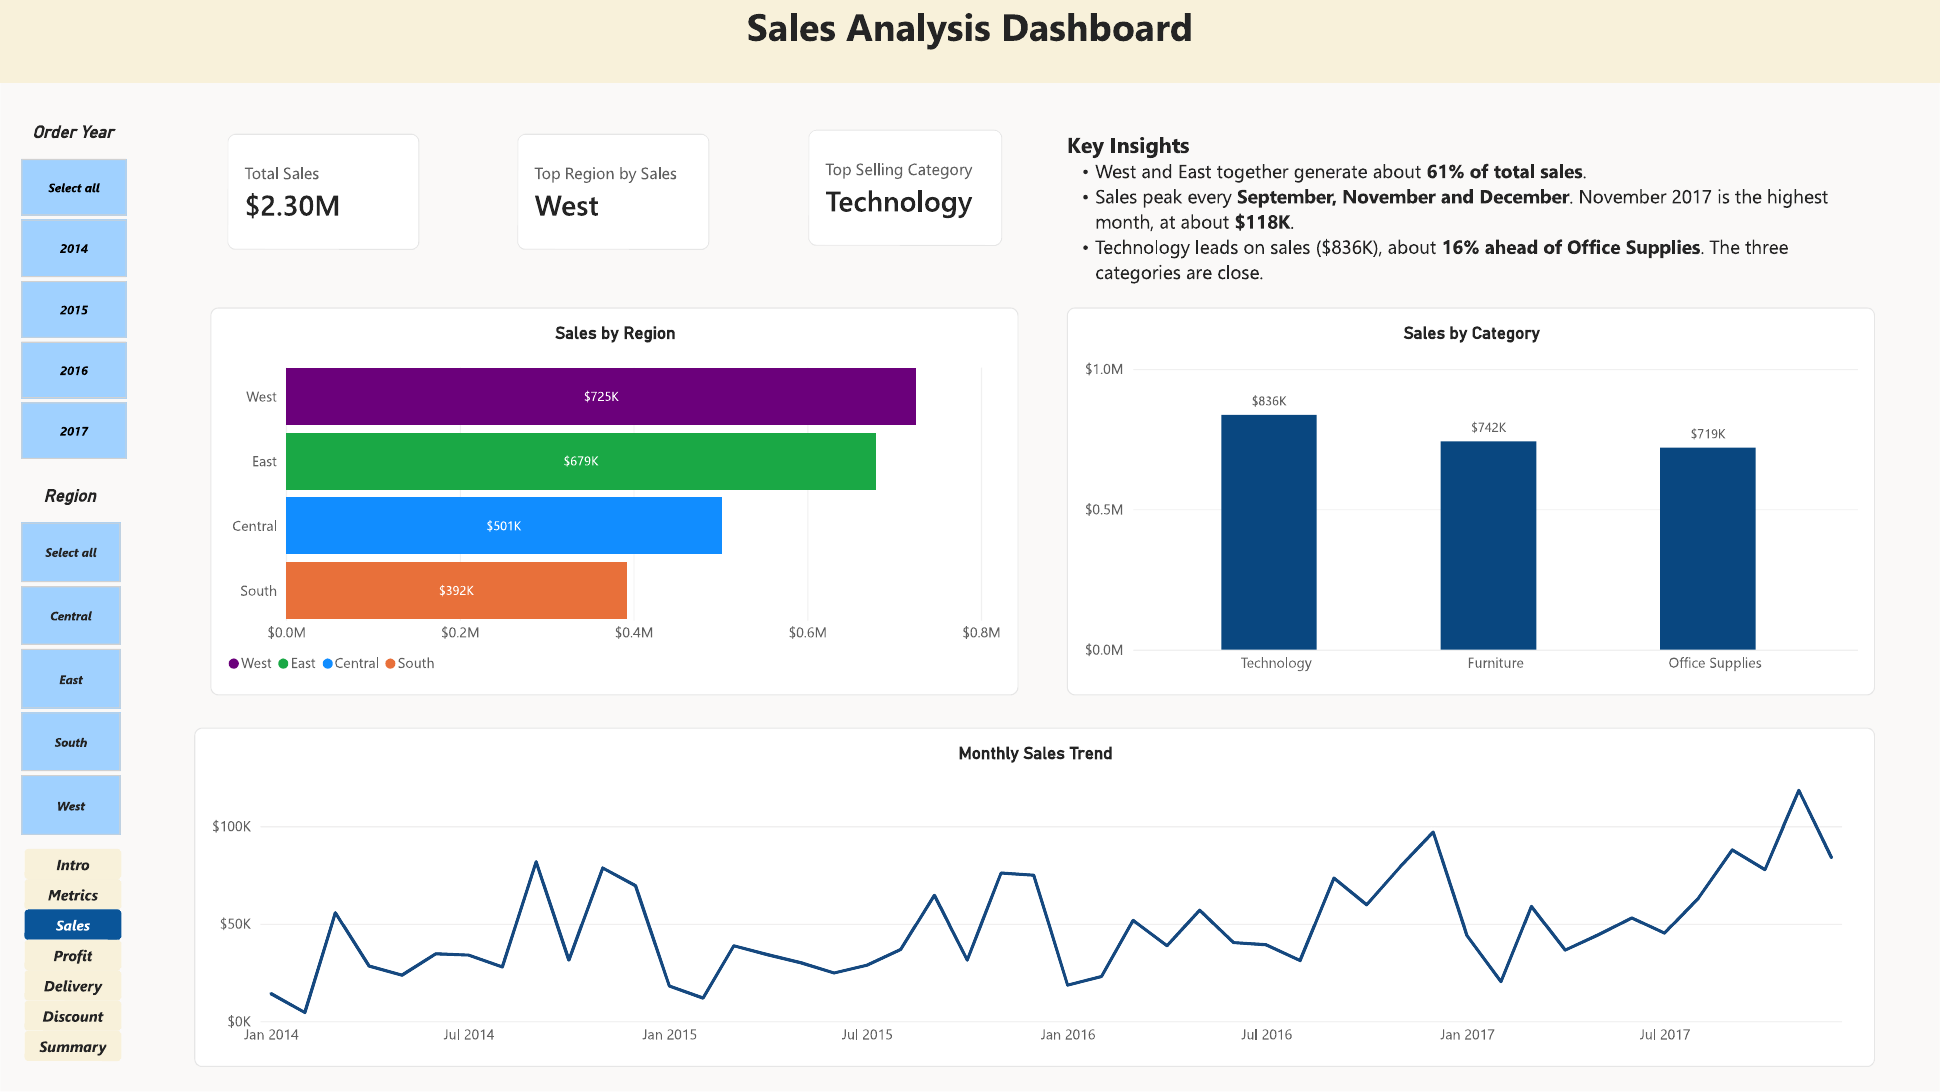

Layout of this report page (visuals, bound fields, positions):
{"tool":"powerbi","page":{"name":"Sales","canvas":[1920,1080],"ordinal":2},"visuals":[{"type":"textbox","box":[0,0,1920.4,82.3],"z":0},{"type":"barChart","title":"Sales by Region","fields":{"Category":["Superstore.Region"],"Series":["Superstore.Region"],"Y":["Superstore.Total Sales"]},"box":[208,304,800,384],"z":3000},{"type":"clusteredColumnChart","title":"Sales by Category","fields":{"Category":["Superstore.Category"],"Y":["Superstore.Total Sales"]},"box":[1056,304,800,384],"z":4000},{"type":"lineChart","title":"Monthly Sales Trend","fields":{"Category":["Superstore.OrderMonth"],"Y":["Superstore.Total Sales"]},"box":[192,720,1664,336],"z":5000},{"type":"cardVisual","title":"T","fields":{"Data":["Superstore.Total Sales"]},"box":[224.9,132.3,190,115],"z":6000},{"type":"cardVisual","fields":{"Data":["Superstore.Top Region by Sales"]},"box":[512.5,132.3,190,115],"z":7000},{"type":"cardVisual","fields":{"Data":["Superstore.Top Selling Category"]},"box":[800,128,192,115],"z":8000},{"type":"textbox","title":"Key Insights","box":[1056,128,800,176],"z":9000},{"type":"pageNavigator","box":[24,840,96,216],"z":9001},{"type":"slicer","title":"Order Year","fields":{"Values":["Superstore.OrderYear"]},"box":[0,120,144,336],"z":9002},{"type":"slicer","title":"Region","fields":{"Values":["Superstore.Region"]},"box":[0,480,137.9,347.9],"z":9003}]}

Visuals, with their boxes in screenshot pixels (x1, y1, x2, y2), scaled from the page's 1920x1080 canvas onto the 1940x1092 screenshot:
textbox: [0,0,1939,83]
"Sales by Region" barChart: [210,307,1019,696]
"Sales by Category" clusteredColumnChart: [1067,307,1875,696]
"Monthly Sales Trend" lineChart: [194,728,1875,1068]
"T" cardVisual: [227,134,419,250]
cardVisual - Superstore.Top Region by Sales: [518,134,710,250]
cardVisual - Superstore.Top Selling Category: [808,129,1002,246]
"Key Insights" textbox: [1067,129,1875,307]
pageNavigator: [24,849,121,1068]
"Order Year" slicer: [0,121,146,461]
"Region" slicer: [0,485,139,837]
